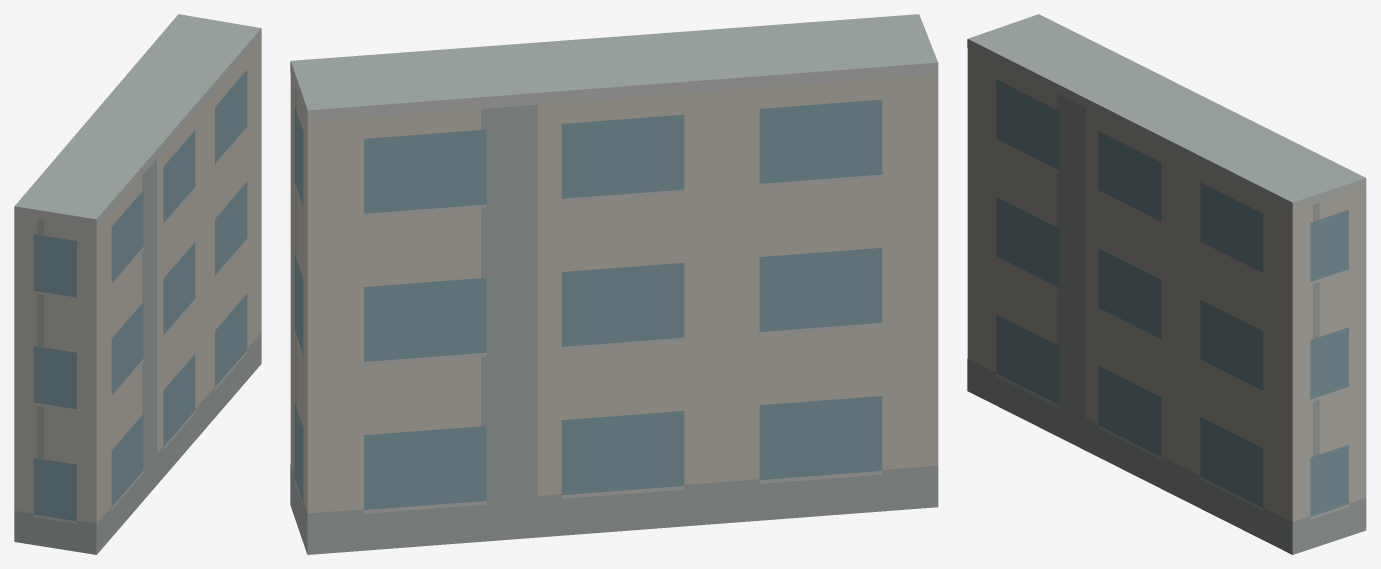
Rendered from survey-upis-32644337.glb.
3 views of the same model, side by side, from view 1: azimuth 30°, elevation 25°; view 2: azimuth 150°, elevation 25°; view 3: azimuth 270°, elevation 25° (orthographic). The views are drawn at different scales.
Parts seen in each view (by area): view 1: survey-upis-32644337.tmp; view 2: survey-upis-32644337.tmp; view 3: survey-upis-32644337.tmp.
Part boxes in pixels (box(x1,y1,x2,y2)): survey-upis-32644337.tmp: box(14, 14, 261, 554); survey-upis-32644337.tmp: box(290, 14, 938, 554); survey-upis-32644337.tmp: box(967, 14, 1366, 554).
Size of the model in its own units: 10.51 by 9.15 by 9.39.
